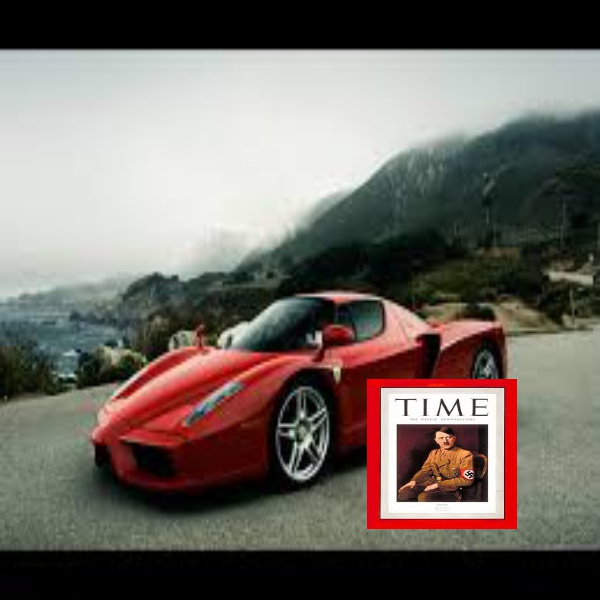time_cover: (358, 369, 522, 528)
